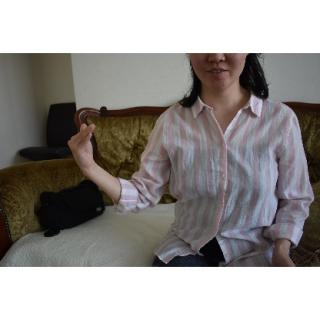KHAA: (64, 118, 103, 176)
